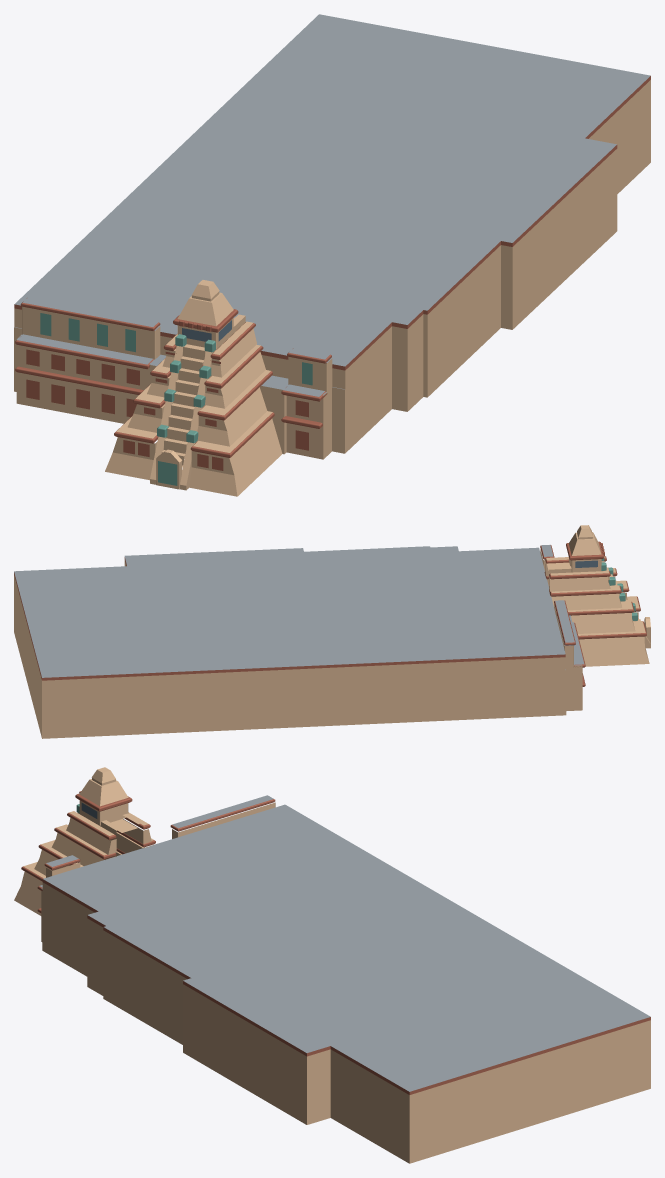
The model's file is detail.glb.
The picture shows the model from 3 angles, top to bottom: view 1: azimuth 30°, elevation 25°; view 2: azimuth 150°, elevation 25°; view 3: azimuth 270°, elevation 25°; orthographic projection. The views are drawn at different scales.
Parts seen in each view (by area): view 1: mexico-pavilion-walt-disney-world; view 2: mexico-pavilion-walt-disney-world; view 3: mexico-pavilion-walt-disney-world.
Boxes of the visible parts, left/top/right/bottom form: mexico-pavilion-walt-disney-world: left=14, top=14, right=650, bottom=496; mexico-pavilion-walt-disney-world: left=14, top=525, right=650, bottom=738; mexico-pavilion-walt-disney-world: left=14, top=767, right=650, bottom=1163.
Bounding box in the file's own units: 114 × 25.2 × 104.
